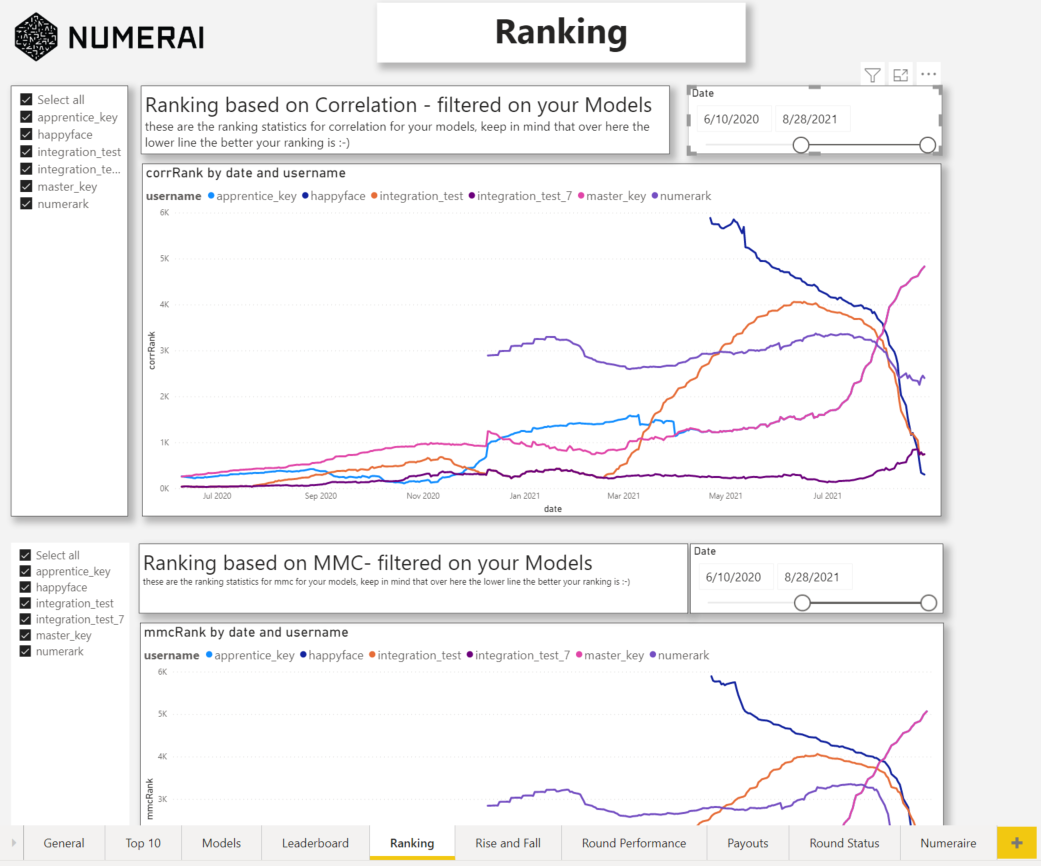

The dashboard page shown, as its layout file describes it:
{"tool":"powerbi","page":{"name":"Ranking","canvas":[1679,2200],"ordinal":4},"visuals":[{"type":"lineChart","fields":{"Category":["filtered_allDailyModelPerformances.date"],"Series":["filtered_allDailyModelPerformances.username"],"Y":["filtered_allDailyModelPerformances.corrRank"]},"box":[227.4,253.6,1228.6,542.2],"z":0},{"type":"lineChart","fields":{"Category":["filtered_allDailyModelPerformances.date"],"Series":["filtered_allDailyModelPerformances.username"],"Y":["filtered_allDailyModelPerformances.mmcRank"]},"box":[223.8,959.1,1235.3,509.9],"z":1000},{"type":"lineChart","fields":{"Category":["filtered_allDailyModelPerformances.date"],"Series":["filtered_allDailyModelPerformances.username"],"Y":["filtered_allDailyModelPerformances.fncRank"]},"box":[223.5,1649.5,1235.4,535.4],"z":2000},{"type":"textbox","box":[226.3,133.7,812.5,105.4],"z":3000},{"type":"textbox","box":[223,837.3,843.9,107.1],"z":4000},{"type":"textbox","box":[223.6,1522.2,846.1,107.1],"z":5000},{"type":"image","box":[24.5,6.1,310.9,104.3],"z":6000},{"type":"textbox","box":[589,6.1,566.5,92],"z":7000},{"type":"slicer","fields":{"Values":["filtered_allDailyModelPerformances.username1"]},"box":[26,133.4,180.2,661.9],"z":8000},{"type":"slicer","fields":{"Values":["filtered_allDailyModelPerformances.username1"]},"box":[26,836.9,181.9,632.4],"z":9000},{"type":"slicer","fields":{"Values":["filtered_allDailyModelPerformances.username1"]},"box":[24.1,1522.7,183.4,662.9],"z":10000},{"type":"slicer","title":"Date","fields":{"Values":["filtered_allDailyModelPerformances.date"]},"box":[1067.1,133.7,390.8,105.4],"z":11000},{"type":"slicer","title":"Date","fields":{"Values":["filtered_allDailyModelPerformances.date"]},"box":[1069.1,837.3,389.1,107.1],"z":12000},{"type":"slicer","title":"Date","fields":{"Values":["filtered_allDailyModelPerformances.date"]},"box":[1069.7,1522.2,389.1,107.1],"z":13000},{"type":"slicer","fields":{"Values":["filtered_v2leaderboard.username"]},"box":[1369.4,5.2,291.2,110.2],"z":14000}]}

Visuals, with their boxes on the page's 1679x2200 design canvas (x1, y1, x2, y2). These are canvas units, not pixel positions in the 1041x866 screenshot, which may show the page scaled, cropped or inside an application window:
lineChart - filtered_allDailyModelPerformances.date x filtered_allDailyModelPerformances.username: <region>227, 254, 1456, 796</region>
lineChart - filtered_allDailyModelPerformances.date x filtered_allDailyModelPerformances.username: <region>224, 959, 1459, 1469</region>
lineChart - filtered_allDailyModelPerformances.date x filtered_allDailyModelPerformances.username: <region>224, 1650, 1459, 2185</region>
textbox: <region>226, 134, 1039, 239</region>
textbox: <region>223, 837, 1067, 944</region>
textbox: <region>224, 1522, 1070, 1629</region>
image: <region>24, 6, 335, 110</region>
textbox: <region>589, 6, 1156, 98</region>
slicer - filtered_allDailyModelPerformances.username1: <region>26, 133, 206, 795</region>
slicer - filtered_allDailyModelPerformances.username1: <region>26, 837, 208, 1469</region>
slicer - filtered_allDailyModelPerformances.username1: <region>24, 1523, 208, 2186</region>
"Date" slicer: <region>1067, 134, 1458, 239</region>
"Date" slicer: <region>1069, 837, 1458, 944</region>
"Date" slicer: <region>1070, 1522, 1459, 1629</region>
slicer - filtered_v2leaderboard.username: <region>1369, 5, 1661, 115</region>
